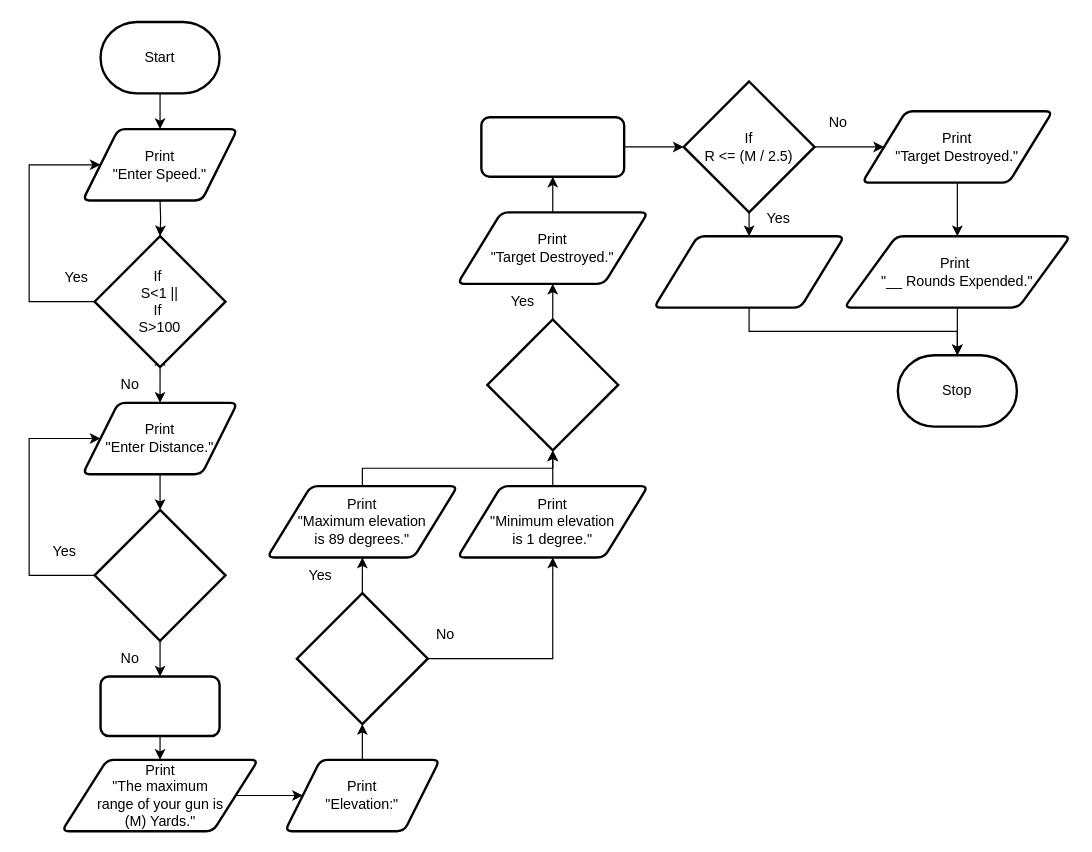
This 1092x852 diagram has some shape labels left out. Each missing label, with the centre of its shape:
If D<0 || If D>10000: (x=159, y=574)
If E > 89: (x=361, y=658)
If K1 < D: (x=552, y=384)
M = 100000 - 75000 * RND(0): (x=159, y=706)
Print "The Target destroyed you!": (x=748, y=271)
R = . 95 *M-. 6 *M* RND ( 0 ): (x=552, y=146)
